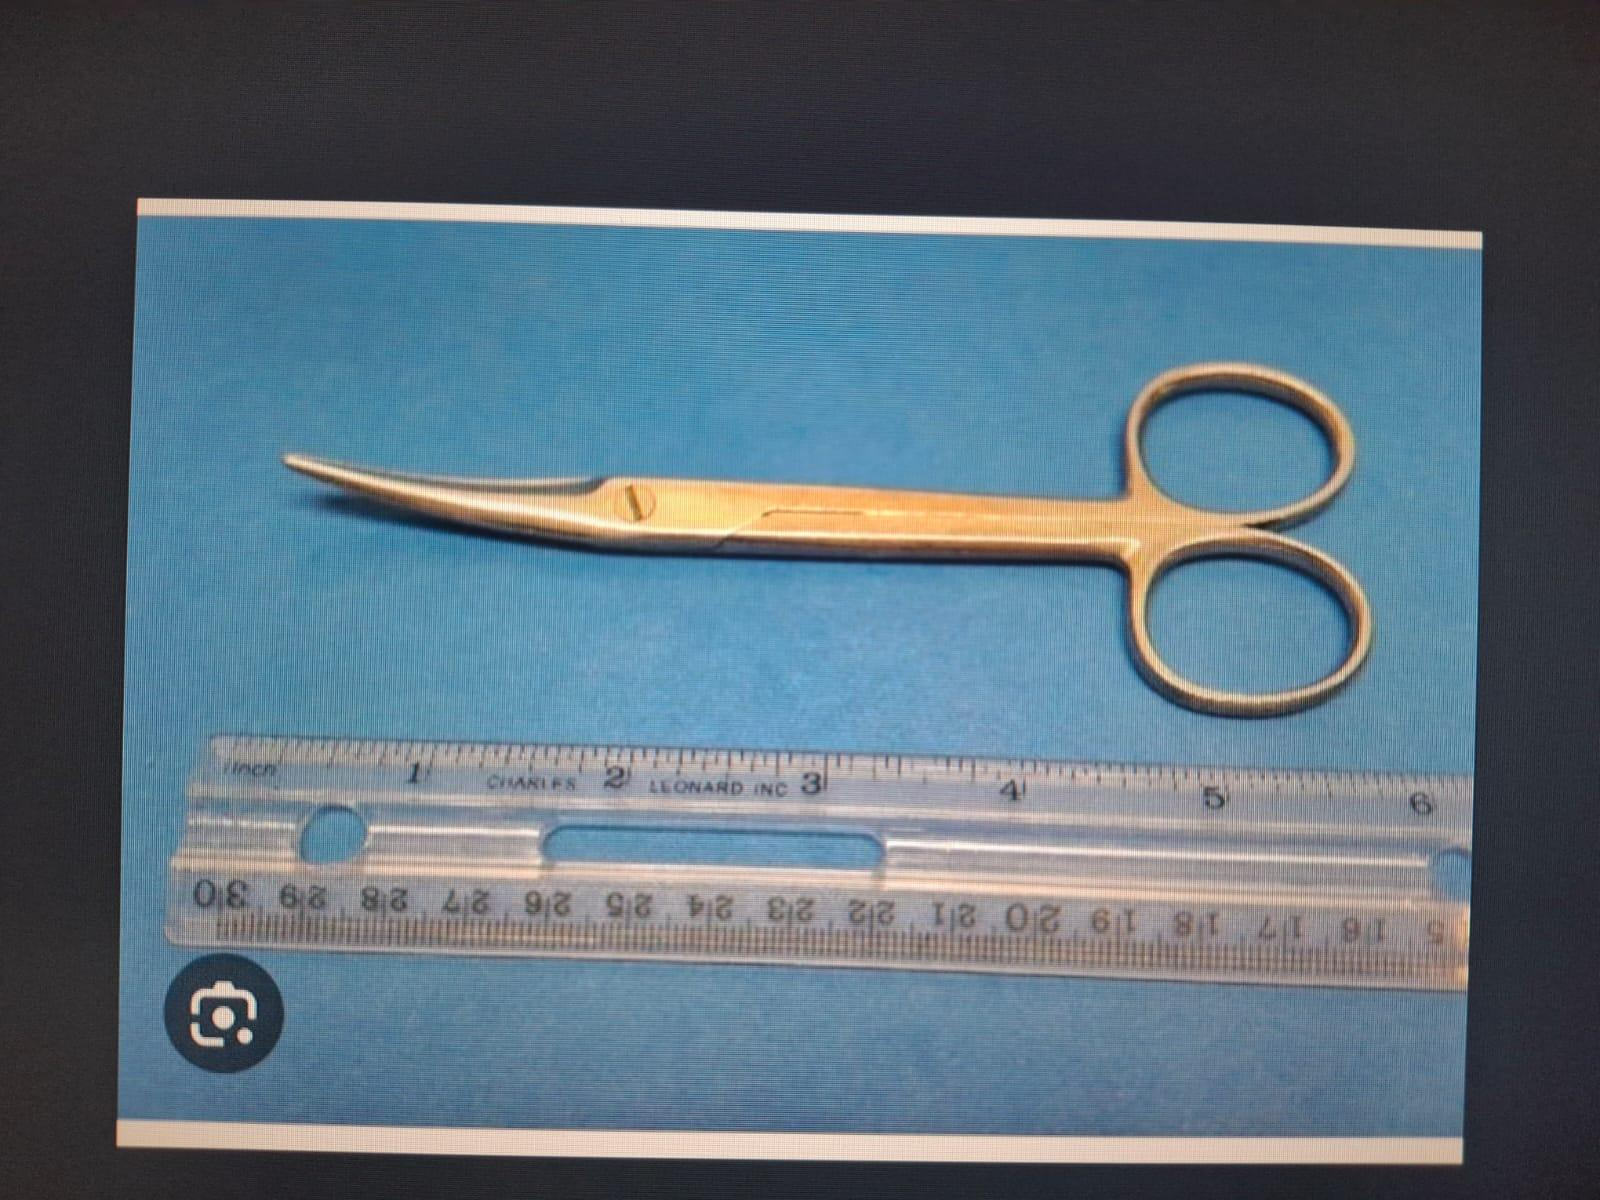Curved Mayo: (273, 338, 1402, 726)
